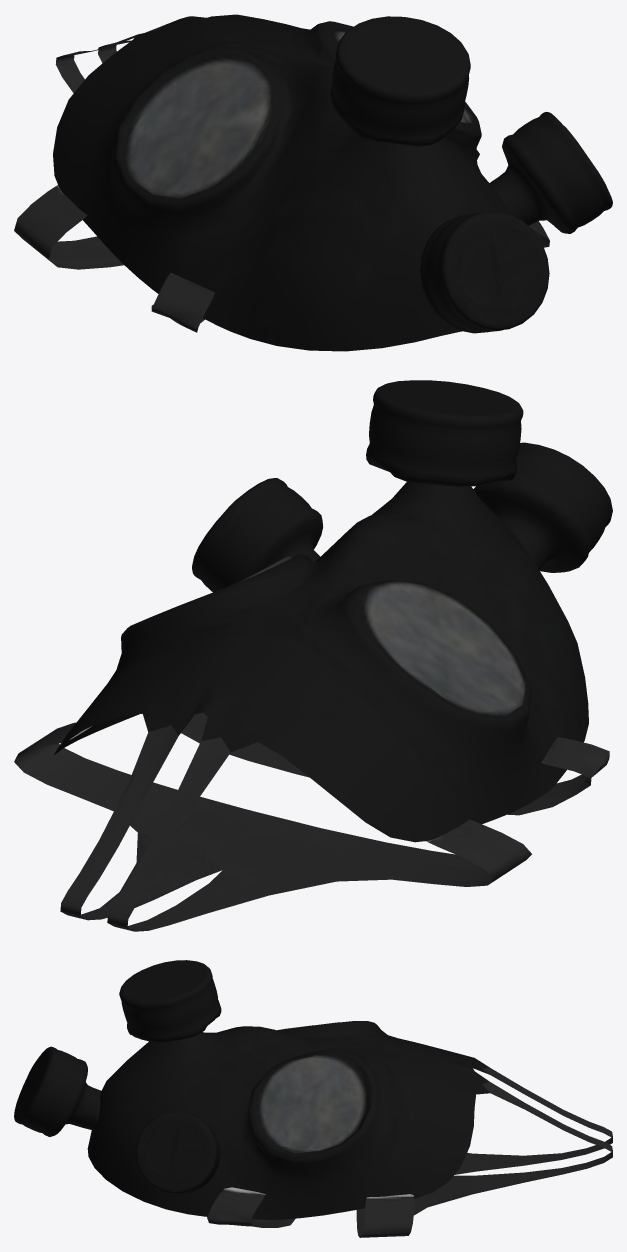
Rendered from gasmask.fbx.
The picture shows the model from 3 angles, top to bottom: view 1: azimuth 30°, elevation 25°; view 2: azimuth 150°, elevation 25°; view 3: azimuth 270°, elevation 25°; orthographic projection. The views are drawn at different scales.
Visible parts, largest first — view 1: Scene_Root; view 2: Scene_Root; view 3: Scene_Root.
Part boxes in pixels (left/top/right/bottom): Scene_Root: left=14, top=14, right=612, bottom=351; Scene_Root: left=14, top=380, right=612, bottom=931; Scene_Root: left=14, top=960, right=612, bottom=1237.
Size of the model in its own units: 7.6 by 4.96 by 13.01.
